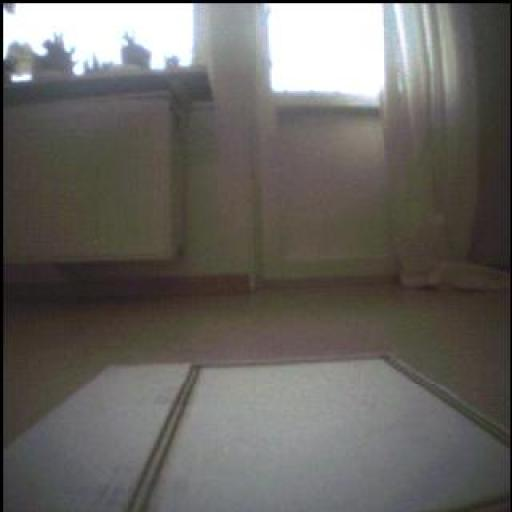Pad: (1, 348, 506, 512)
